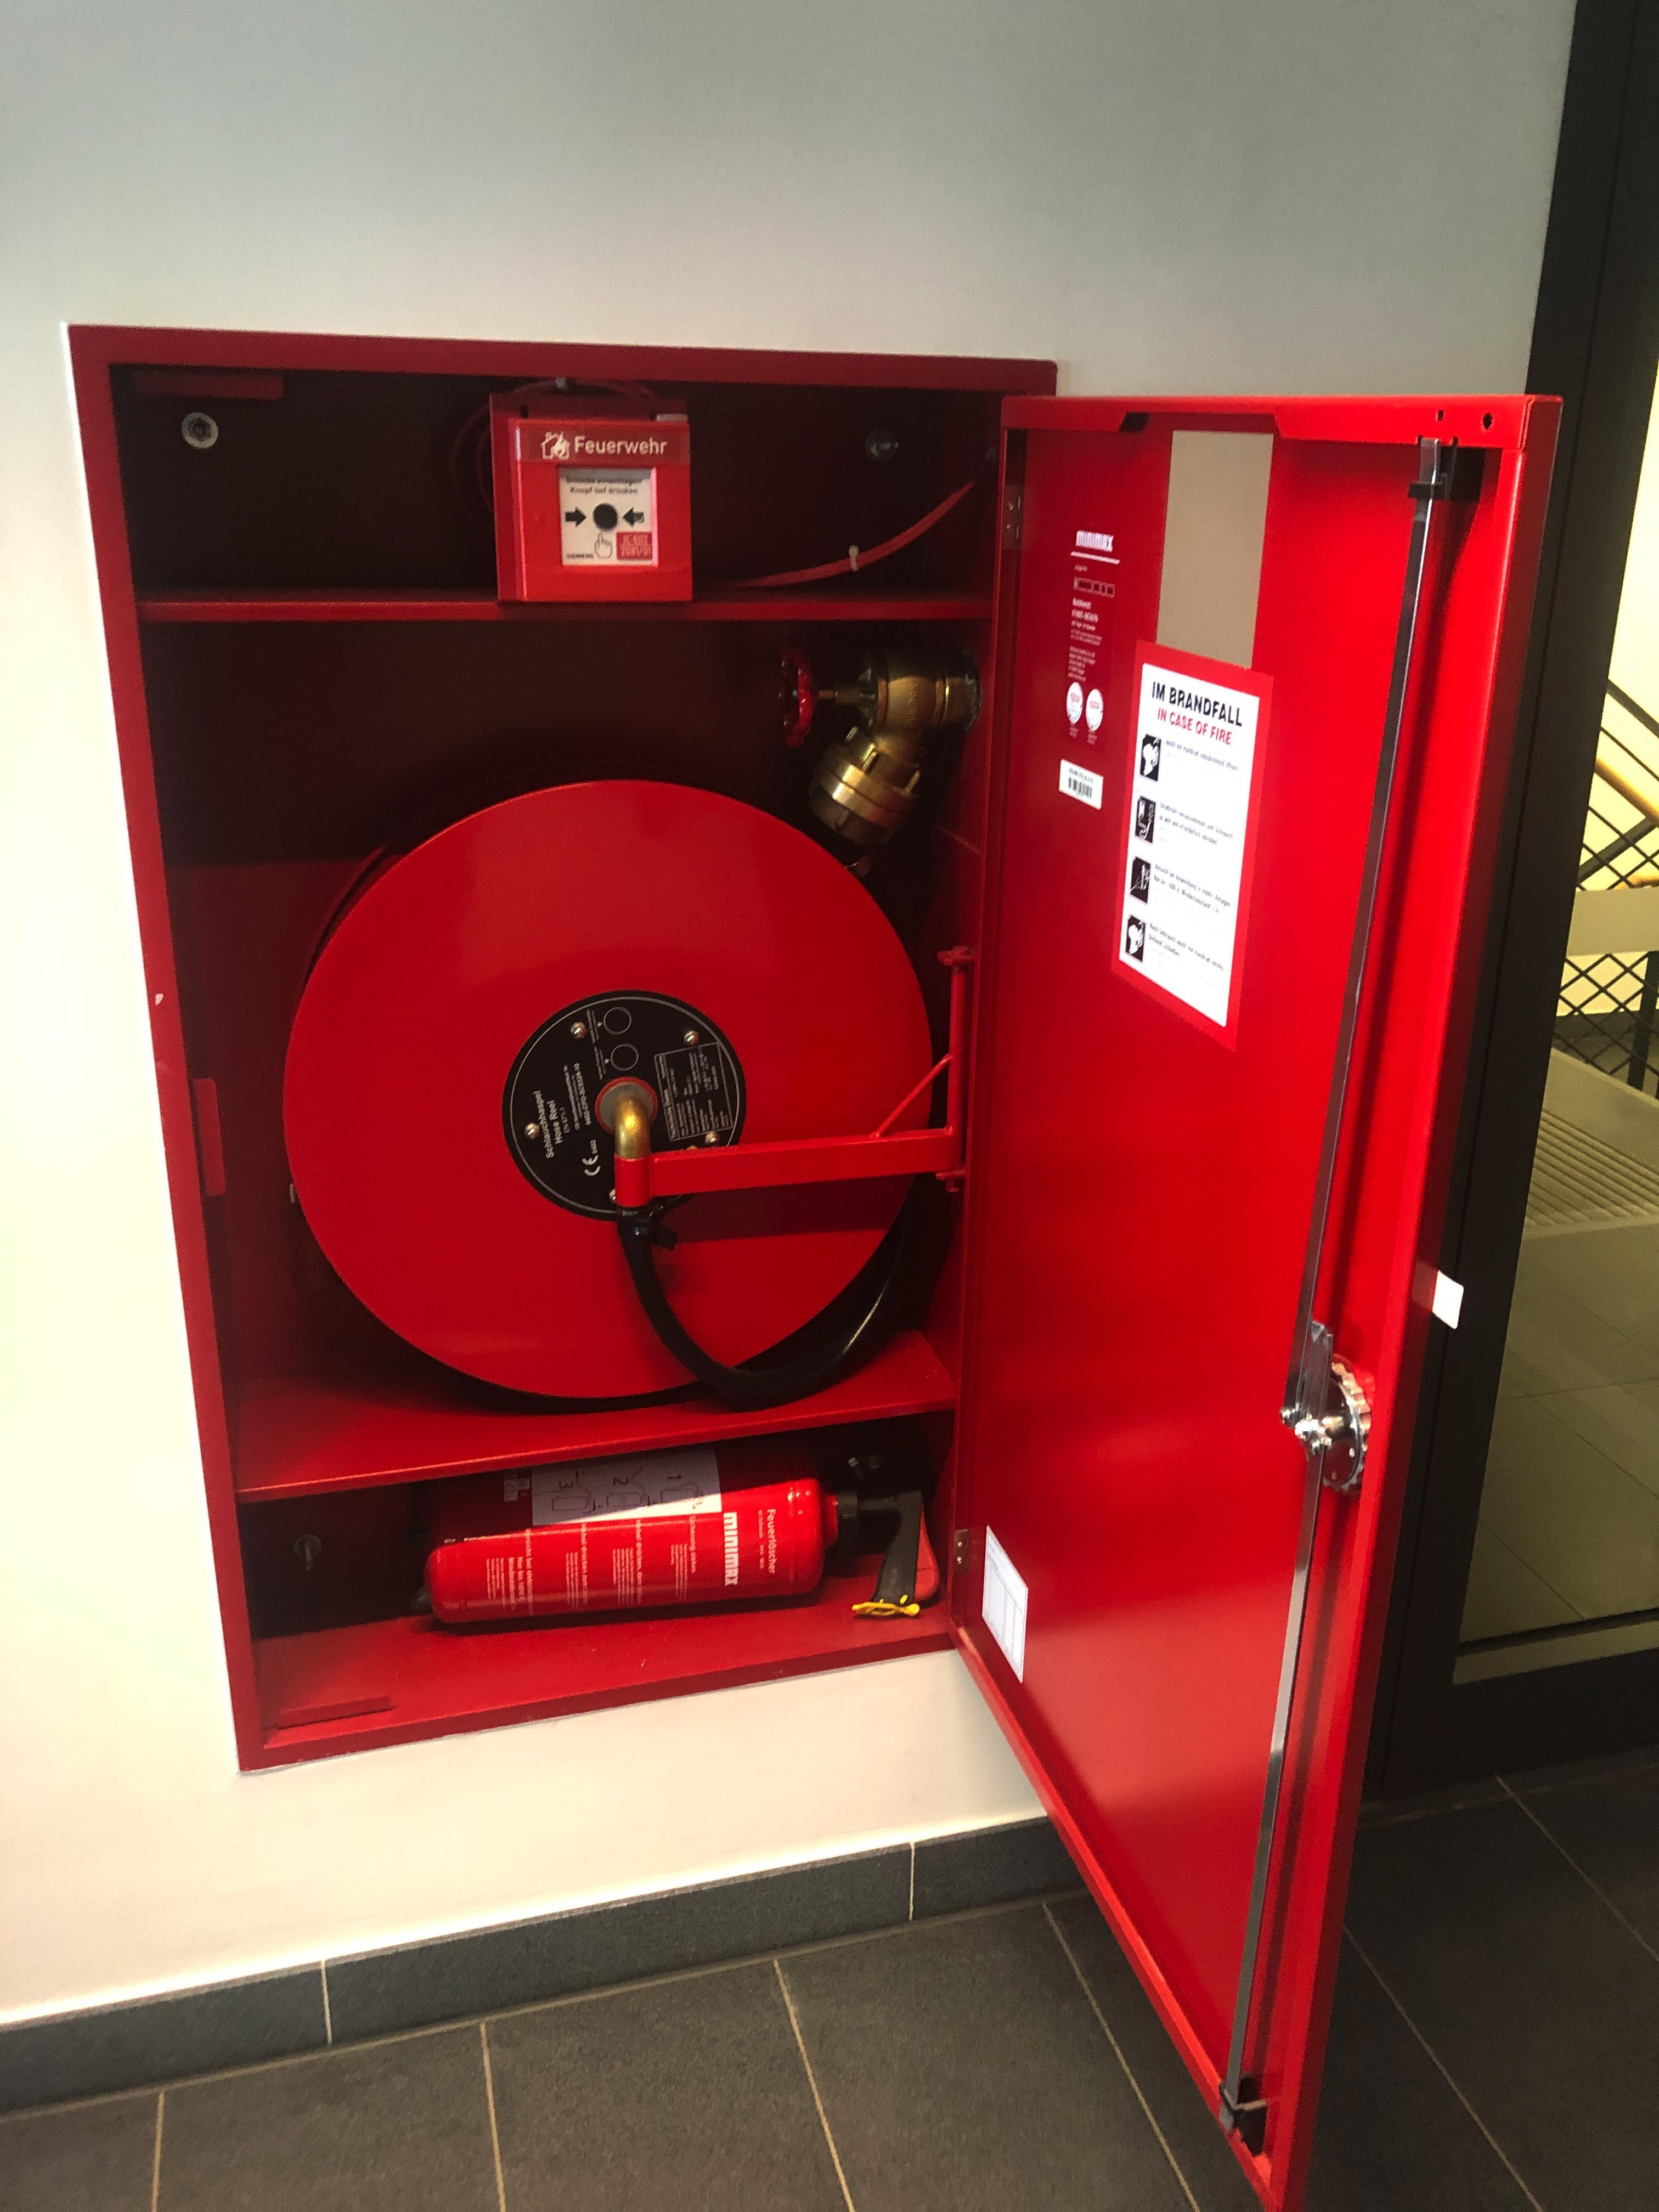call_point: (493, 392, 695, 606)
extinguisher: (404, 1444, 941, 1623)
